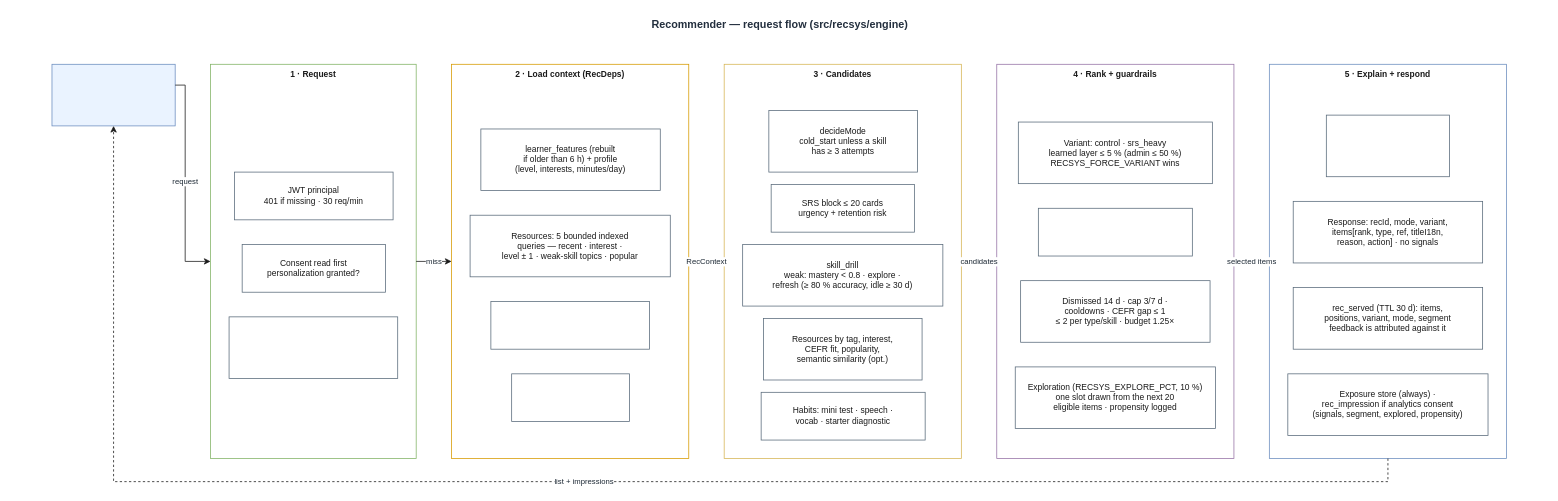
The diagram is 1558 pixels wide and 501 high, and some of its shapes have lost their labels. The centre of each missing label's shape, as x and y in pixels:
Cache: user + limit + consent 120 s · ≤ 5 000 lists refresh=true bypasses: the point at 313,347
CLIENT GET /recommendations ?limit=&refresh=: the point at 113,95
Exposure map (30 d) shown · clicked · dismissed: the point at 569,325
Popularity 30 d log-scaled · cached: the point at 570,397
Reason code + params EN / VI templates no LLM: the point at 1388,145
score = Σ w·signal + boost − recency − completed: the point at 1115,232
